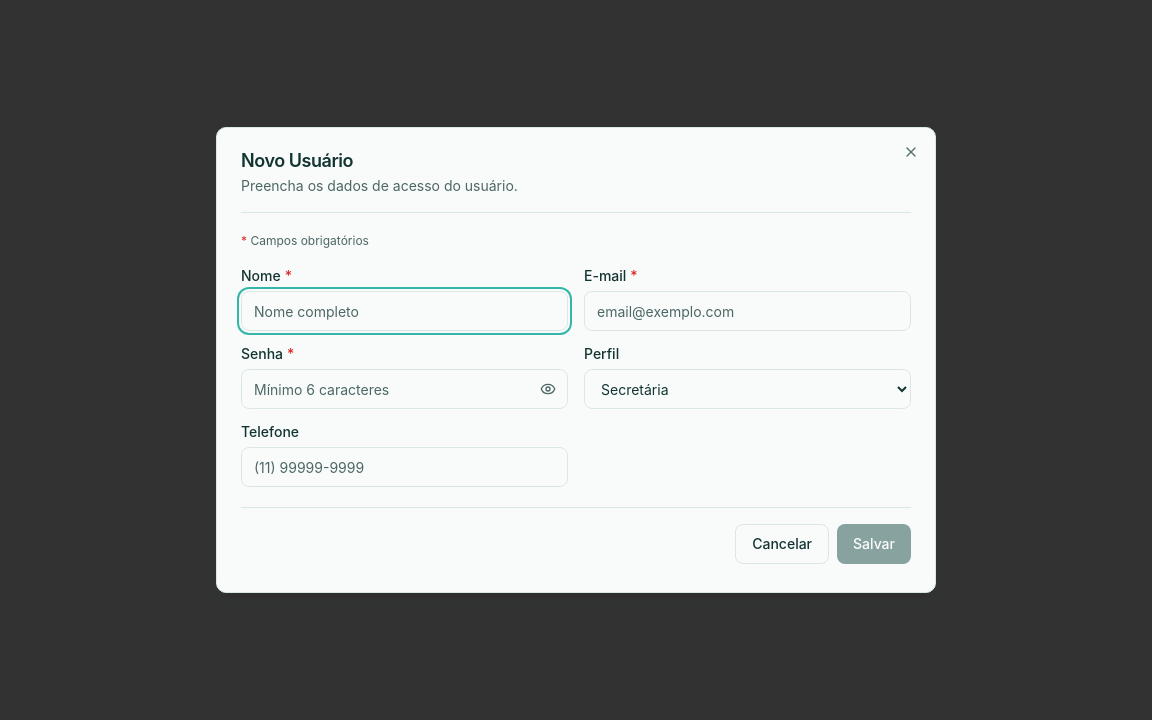
it: UsuarioModal › validações › deve bloquear o salvamento de médico sem registro profissional e especialidade
Type "Dra. Ana" into the field labelled "Nome".
click(404, 311); type("Dra. Ana")  # box 241,291 -> 568,331
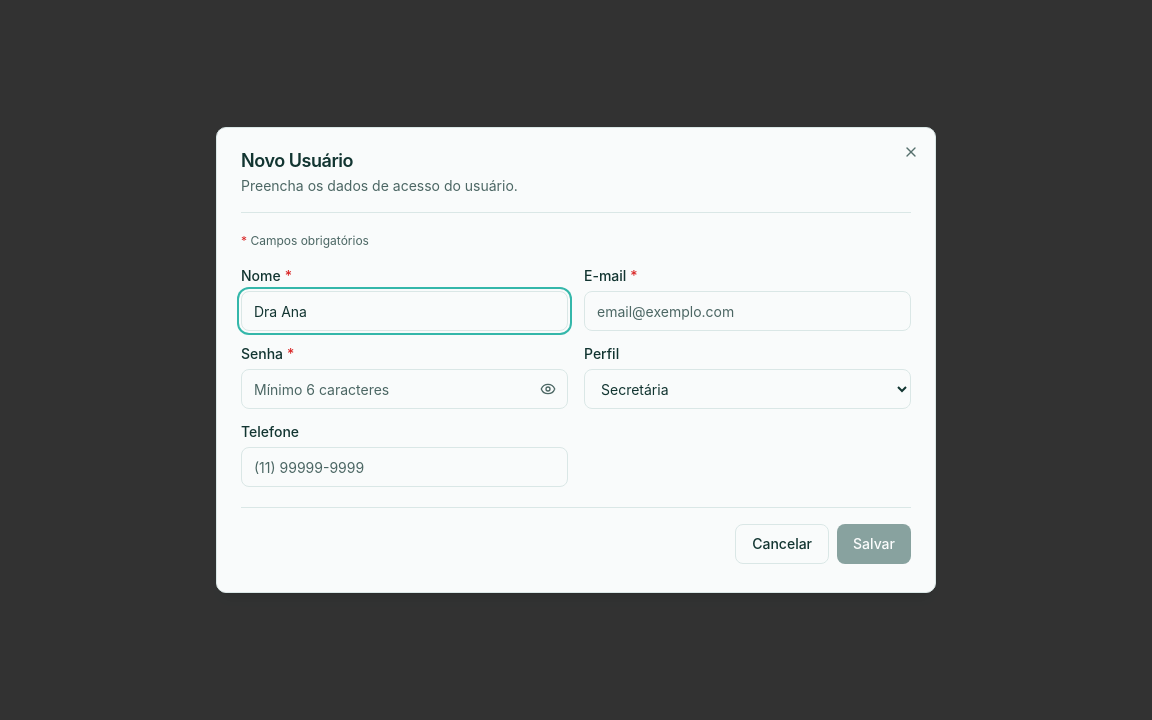
Type "ana@clinica.com" into the field labelled "E-mail".
click(748, 311); type("ana@clinica.com")  # box 584,291 -> 911,331
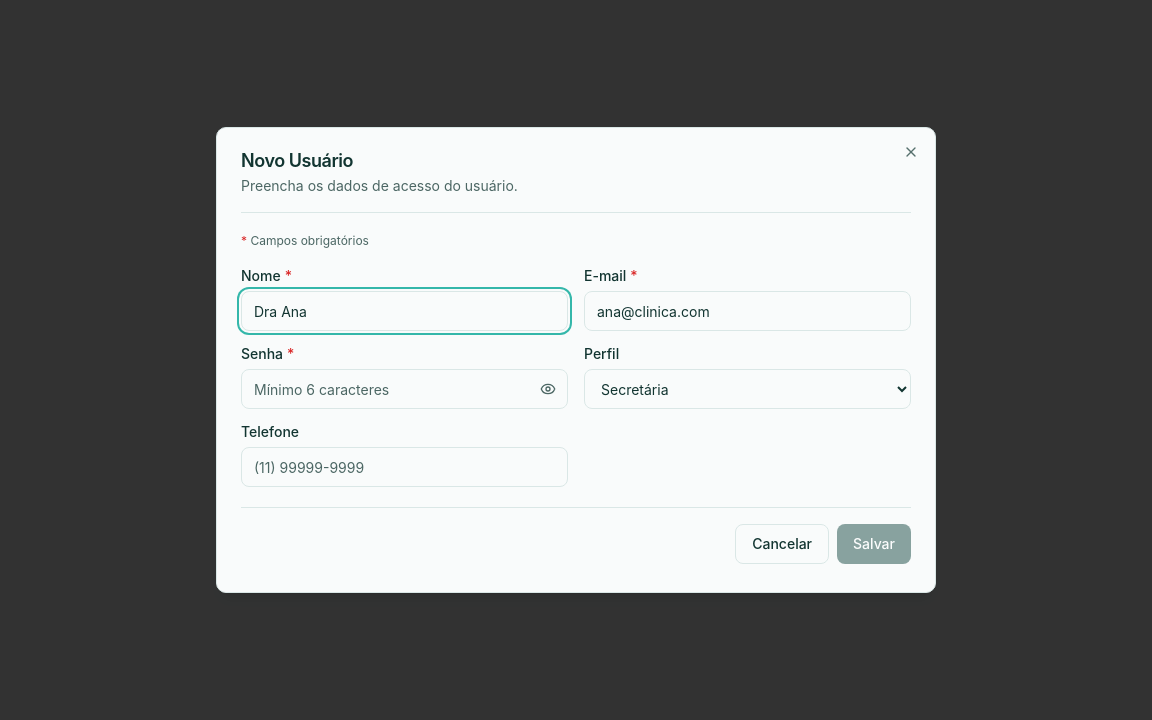
Type "Senha@123" into the password field labelled "Senha".
click(404, 389); type("Senha@123")  # box 241,369 -> 568,409
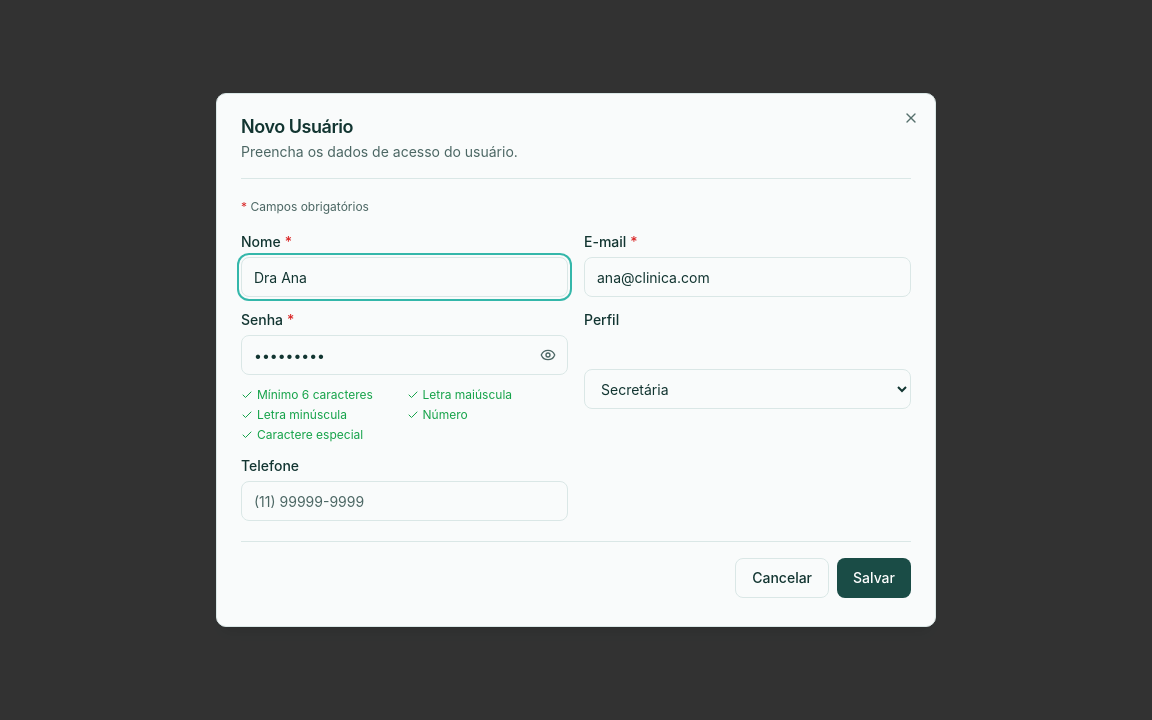
Select "Médico" in the dropdown labelled "Perfil" at (748, 389), box 584,369 -> 911,409
(page scrolled)
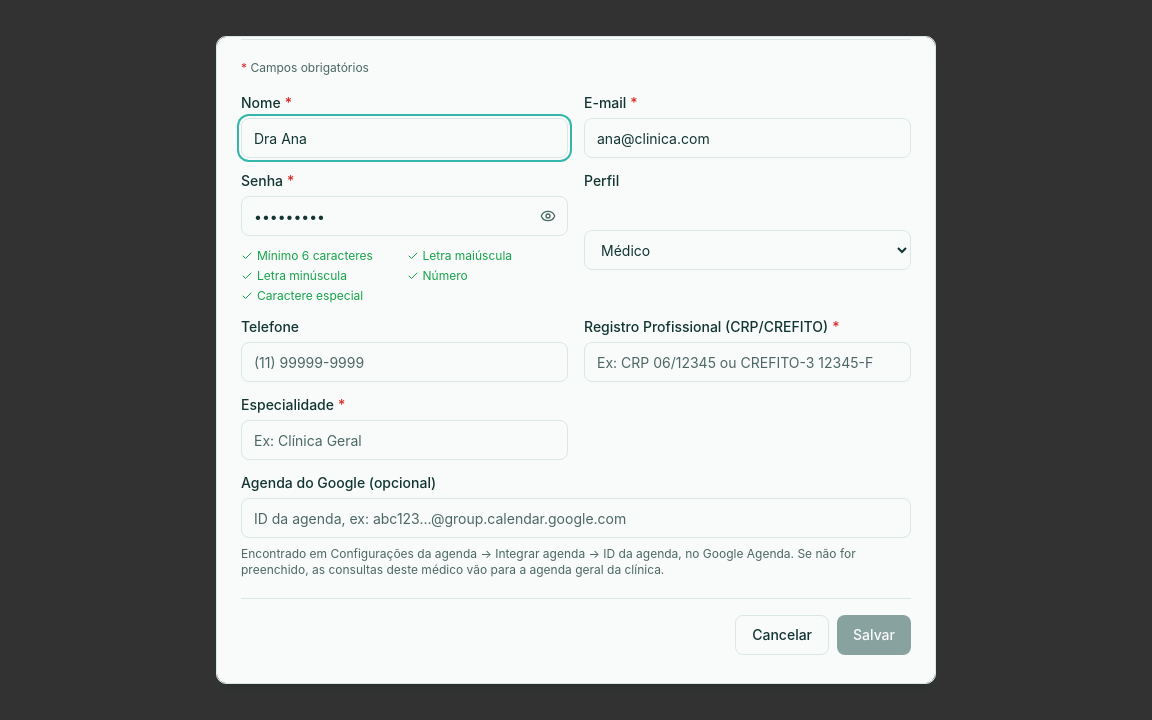
Result: the button "Salvar" is disabled at 837,615 -> 911,655
